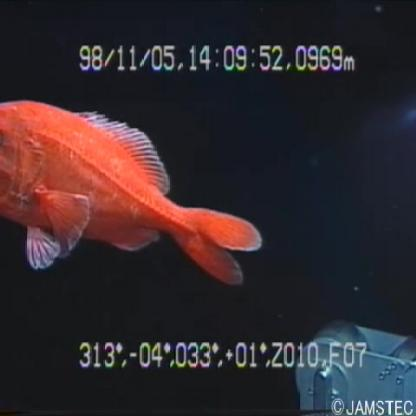Bio: (1, 88, 266, 292)
Rov: (294, 311, 416, 415)
